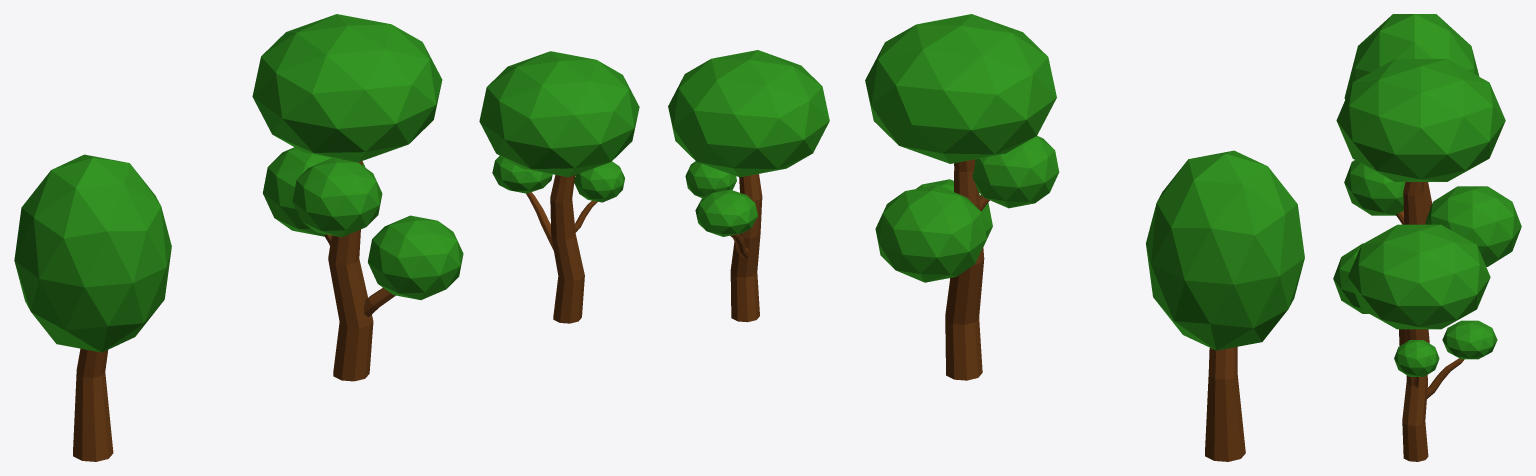
Rendered from Tree.fbx.
3 renders of one model, left to right at view 1: azimuth 30°, elevation 25°; view 2: azimuth 150°, elevation 25°; view 3: azimuth 270°, elevation 25°, orthographic. The views are drawn at different scales.
Visible parts, largest first — view 1: tree, Icosphere, tree.002; view 2: tree, Icosphere, tree.002; view 3: tree, tree.002, Icosphere.
Boxes of the visible parts, x1=… form: tree: x1=252, y1=14, x2=463, y2=381; Icosphere: x1=14, y1=154, x2=171, y2=461; tree.002: x1=479, y1=51, x2=639, y2=323; tree: x1=865, y1=14, x2=1059, y2=380; Icosphere: x1=1146, y1=150, x2=1304, y2=461; tree.002: x1=668, y1=50, x2=829, y2=322; tree: x1=1333, y1=59, x2=1521, y2=345; tree.002: x1=1348, y1=224, x2=1497, y2=461; Icosphere: x1=1344, y1=14, x2=1479, y2=217.
Size of the model in its own units: 3727 by 2141 by 1159.
